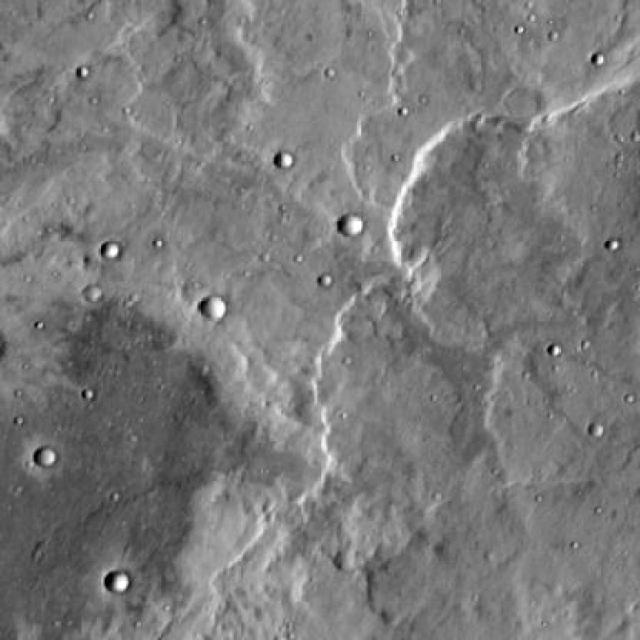crater: (0, 251, 320, 640), (198, 298, 225, 322), (336, 216, 362, 238), (106, 574, 129, 594), (36, 448, 58, 468), (99, 242, 118, 260), (277, 153, 295, 170)
